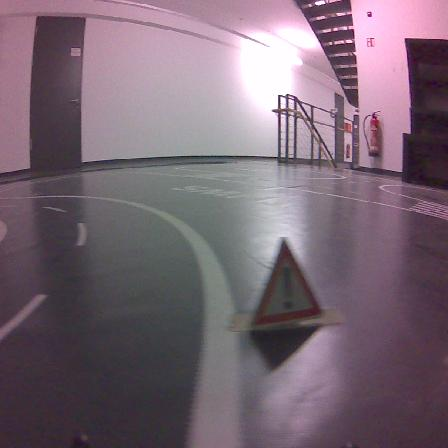ATTENTION: (252, 240, 320, 325)
